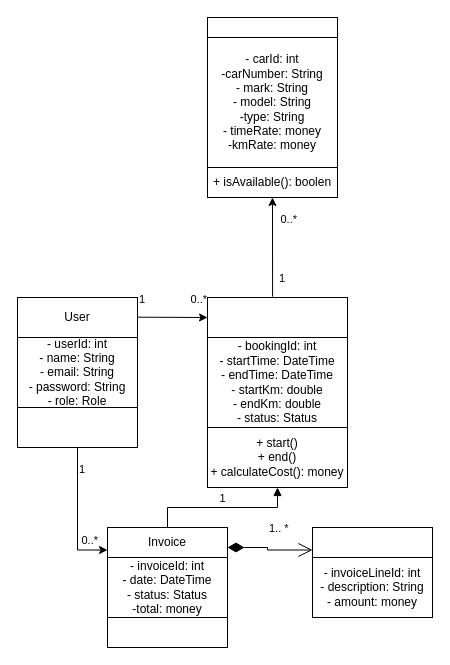
This 450x665 diagram has some shape labels left out. The shapes that lost their labels are listed below. From the top down, each one's centre as x and y in pixels, then its label:
At (272,27): "Car".
At (277,317): "Booking".
At (77,427): "+ register() + login()".
At (372,542): "InvoiceLine".
At (167,632): "+ markAsPaid()".
